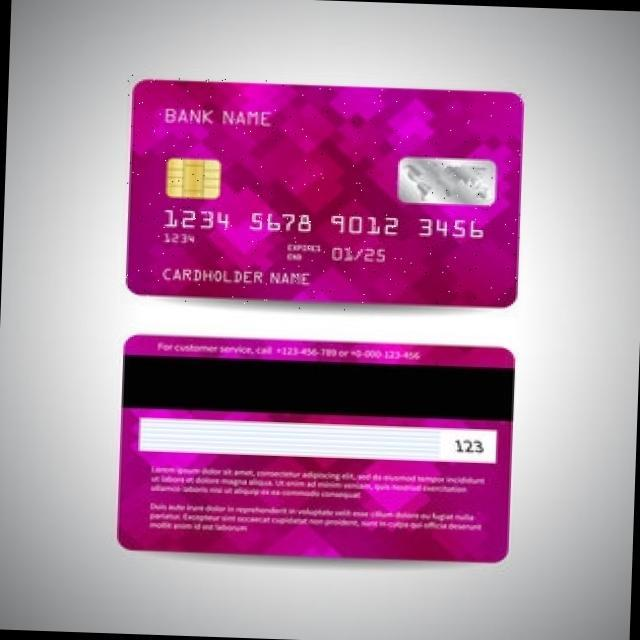payment_card: (116, 333, 515, 563), (125, 77, 524, 307)
